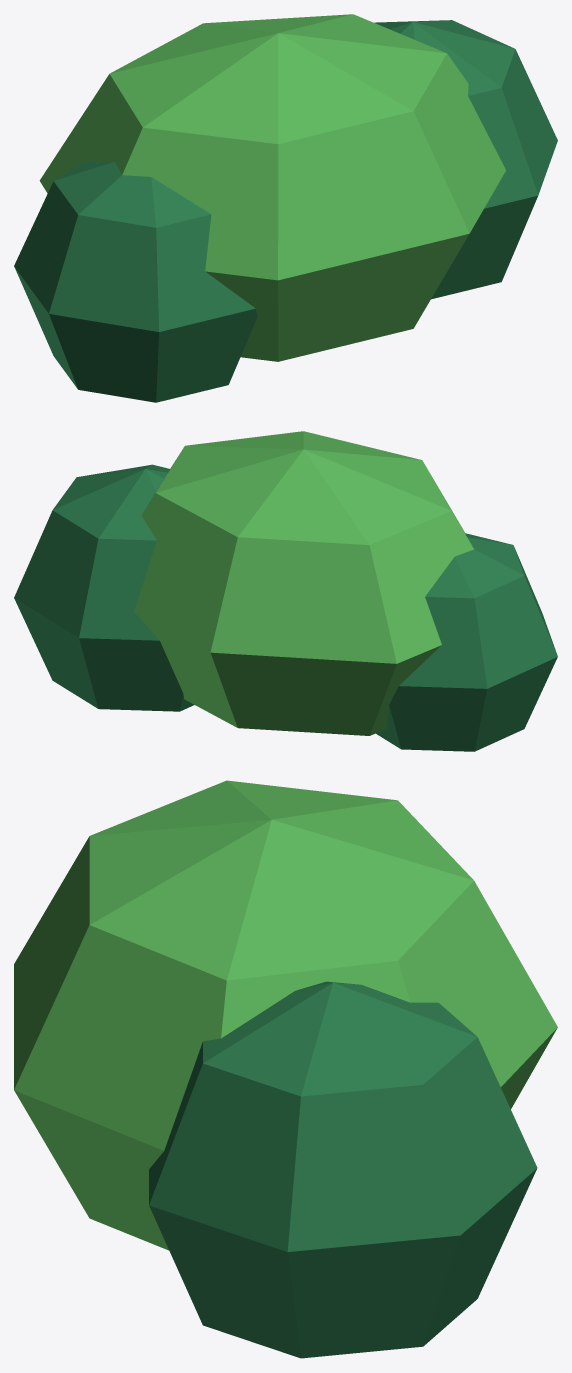
Rendered from mdl_arbusto.fbx.
The picture shows the model from 3 angles, top to bottom: view 1: azimuth 30°, elevation 25°; view 2: azimuth 150°, elevation 25°; view 3: azimuth 270°, elevation 25°; orthographic projection. The views are drawn at different scales.
Visible parts, largest first — view 1: mdl_arbusto; view 2: mdl_arbusto; view 3: mdl_arbusto.
Boxes of the visible parts, box(x1,y1,x2,y2) form: mdl_arbusto: box(14, 14, 557, 402); mdl_arbusto: box(14, 431, 557, 751); mdl_arbusto: box(14, 780, 557, 1358).
Size of the model in its own units: 415 by 232 by 266.
